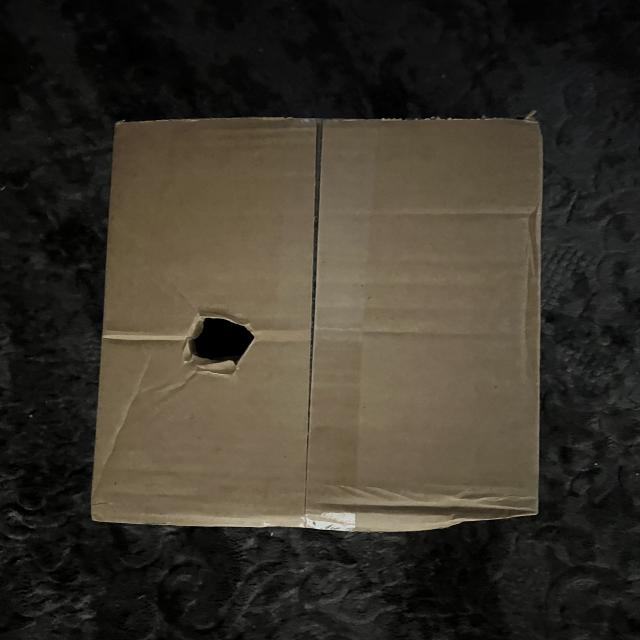damaged: (91, 114, 543, 539), (307, 486, 540, 534), (165, 301, 275, 387)
